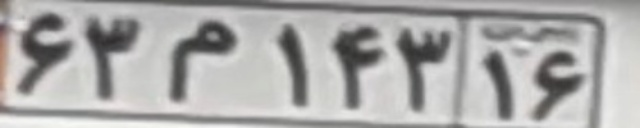1: (275, 22, 312, 106), (480, 49, 517, 119)
3: (392, 26, 451, 109), (85, 15, 143, 98)
4: (332, 24, 382, 108)
6: (17, 10, 71, 94), (529, 49, 584, 119)
mim: (166, 17, 241, 102)
